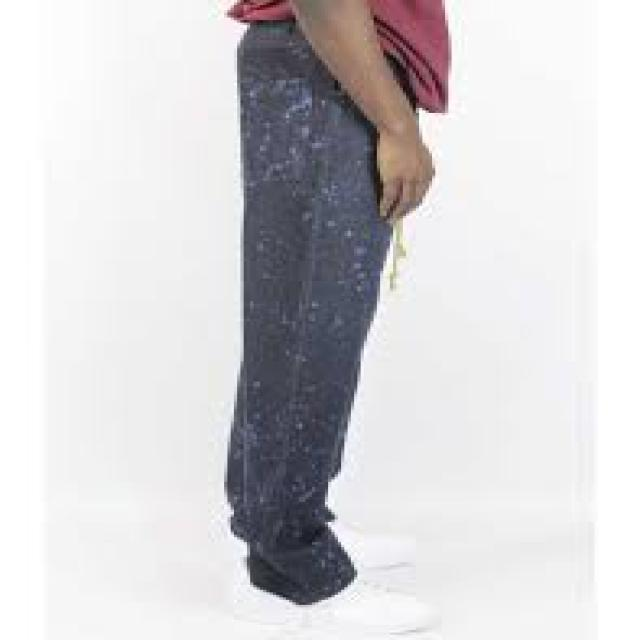pants: (227, 19, 423, 596)
